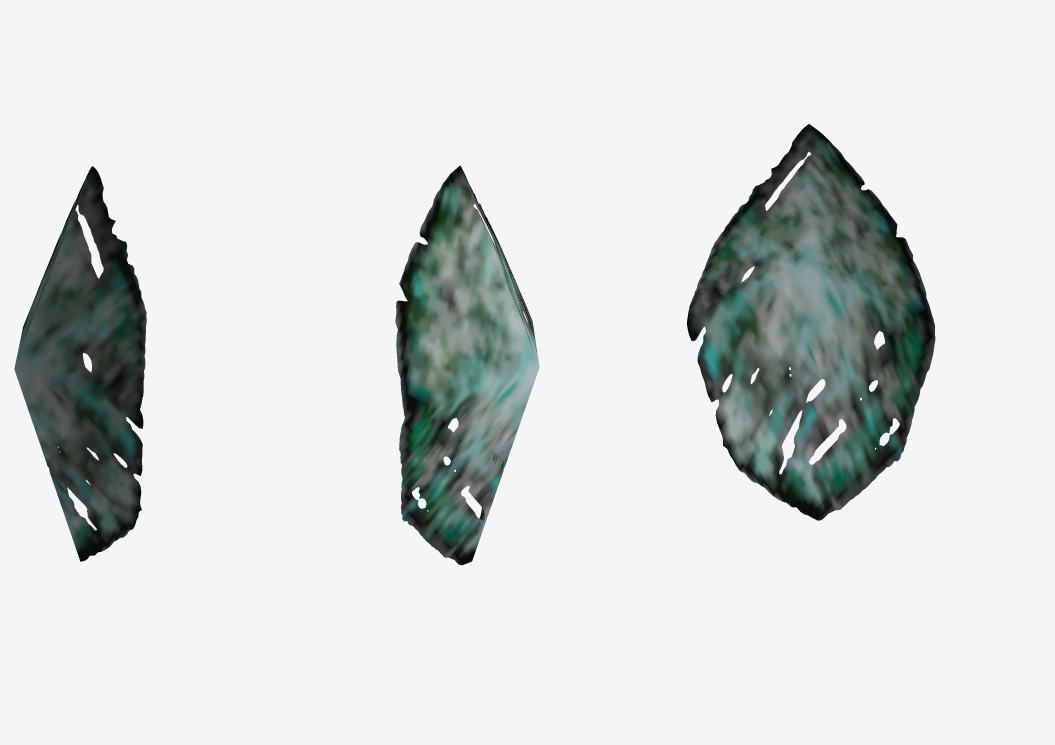
Rendered from earring_s07_l2.fbx.
3 renders of one model, left to right at view 1: azimuth 30°, elevation 25°; view 2: azimuth 150°, elevation 25°; view 3: azimuth 270°, elevation 25°, orthographic.
Parts seen in each view (by area): view 1: mesh_node; view 2: mesh_node; view 3: mesh_node.
Boxes of the visible parts, box(x1,y1,x2,y2) form: mesh_node: box(14, 166, 146, 561); mesh_node: box(395, 165, 539, 565); mesh_node: box(687, 124, 935, 520).
Size of the model in its own units: 0.0109 by 0.054 by 0.032.
